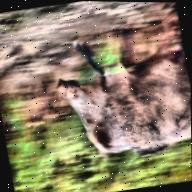boar: (50, 17, 192, 180)
